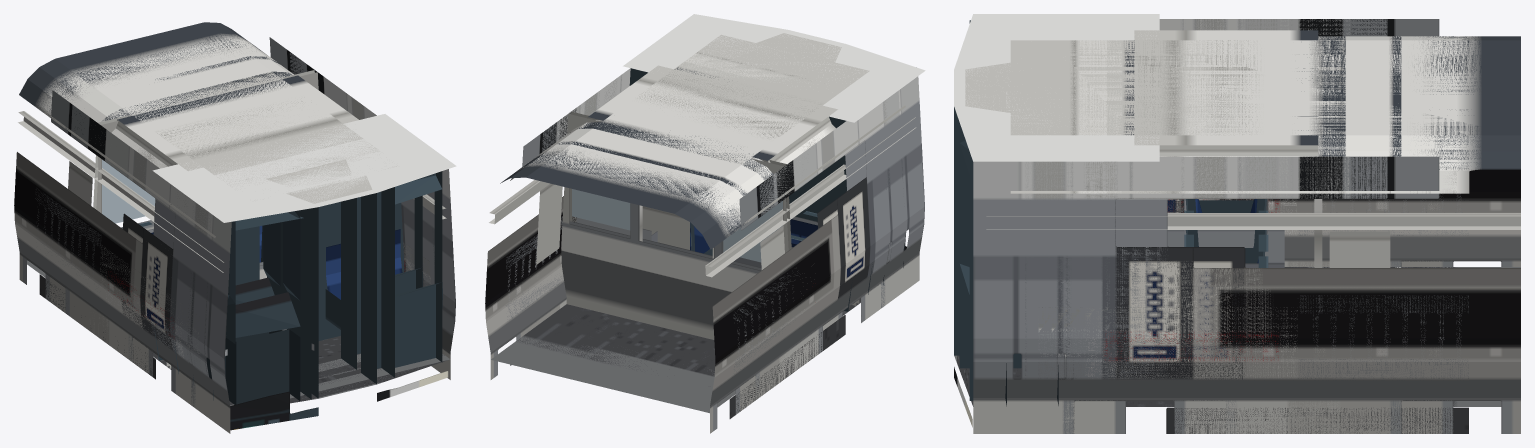
Rendered from m7_interior.obj.
The picture shows the model from 3 angles, left to right: view 1: azimuth 30°, elevation 25°; view 2: azimuth 150°, elevation 25°; view 3: azimuth 270°, elevation 25°; orthographic projection. The views are drawn at different scales.
Parts seen in each view (by area): view 1: int_cab, int_end_cab, int_cab_mini, int_door, int_end_cab_mini, int_window, int_end_gangway_mini, int_end_gangway; view 2: int_end_cab, int_door, int_end_cab_mini, int_end_gangway, int_cab, int_end_gangway_mini, int_window, int_cab_mini, int_seat_rev, int_seat_fwd; view 3: int_end_cab, int_cab, int_end_cab_mini, int_window, int_door, int_cab_mini, int_end_gangway, int_end_gangway_mini, int_seat_fwd, int_seat_rev.
Part boxes in pixels (left/top/right/bottom): int_cab: left=172, top=129, right=456, bottom=433; int_end_cab: left=14, top=22, right=376, bottom=376; int_cab_mini: left=152, top=114, right=434, bottom=418; int_door: left=65, top=56, right=379, bottom=368; int_end_cab_mini: left=34, top=37, right=311, bottom=360; int_window: left=88, top=71, right=363, bottom=238; int_end_gangway_mini: left=35, top=39, right=430, bottom=379; int_end_gangway: left=19, top=22, right=446, bottom=403; int_end_cab: left=485, top=62, right=873, bottom=433; int_door: left=536, top=46, right=890, bottom=339; int_end_cab_mini: left=505, top=68, right=849, bottom=414; int_end_gangway: left=489, top=33, right=916, bottom=412; int_cab: left=643, top=14, right=925, bottom=308; int_end_gangway_mini: left=506, top=48, right=896, bottom=418; int_window: left=579, top=61, right=846, bottom=227; int_cab_mini: left=623, top=28, right=903, bottom=322; int_seat_rev: left=642, top=206, right=804, bottom=255; int_seat_fwd: left=694, top=211, right=817, bottom=253; int_end_cab: left=1108, top=19, right=1520, bottom=433; int_cab: left=954, top=14, right=1107, bottom=433; int_end_cab_mini: left=1159, top=19, right=1468, bottom=433; int_window: left=1107, top=36, right=1345, bottom=406; int_door: left=1051, top=30, right=1401, bottom=267; int_cab_mini: left=1006, top=14, right=1159, bottom=433; int_end_gangway: left=965, top=36, right=1520, bottom=406; int_end_gangway_mini: left=1019, top=36, right=1468, bottom=433; int_seat_fwd: left=1184, top=199, right=1255, bottom=263; int_seat_rev: left=1200, top=199, right=1268, bottom=267.
Size of the model in its own units: 2.75 by 2.4 by 4.45.
